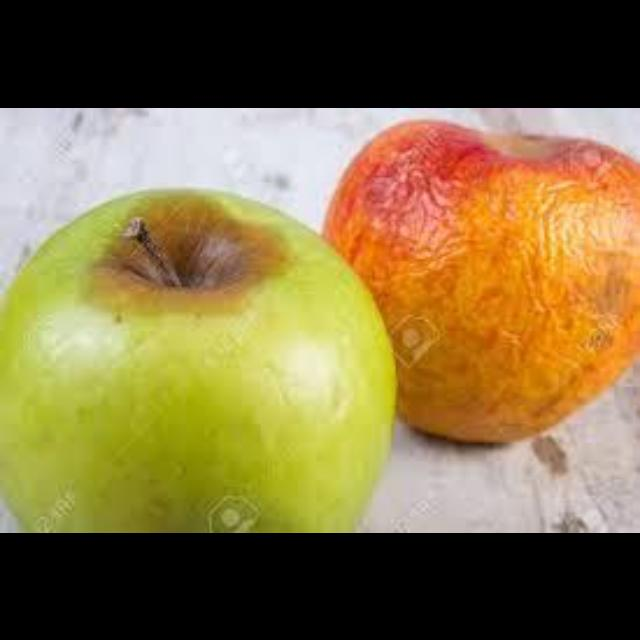apple: (0, 188, 393, 531), (326, 119, 638, 442)
rotten: (87, 202, 285, 313), (465, 126, 583, 167)
